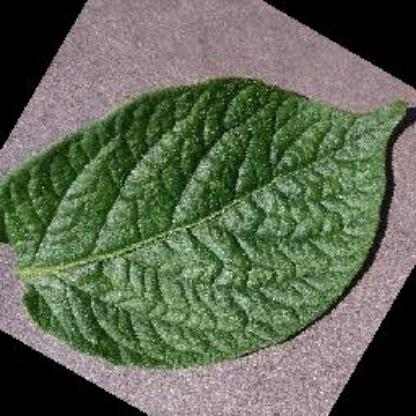Healthy-plant: (2, 70, 414, 372)
